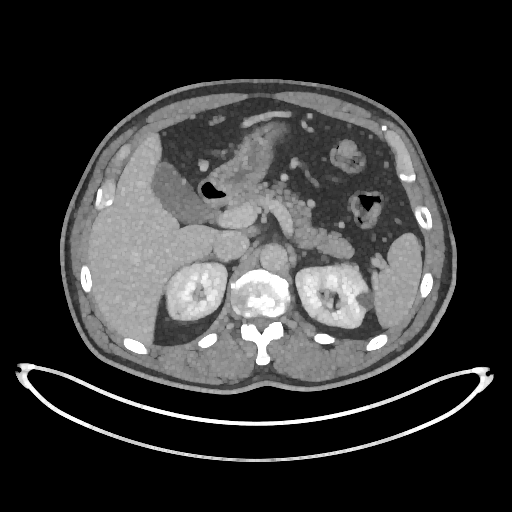Lesion: (351, 293, 377, 311)
